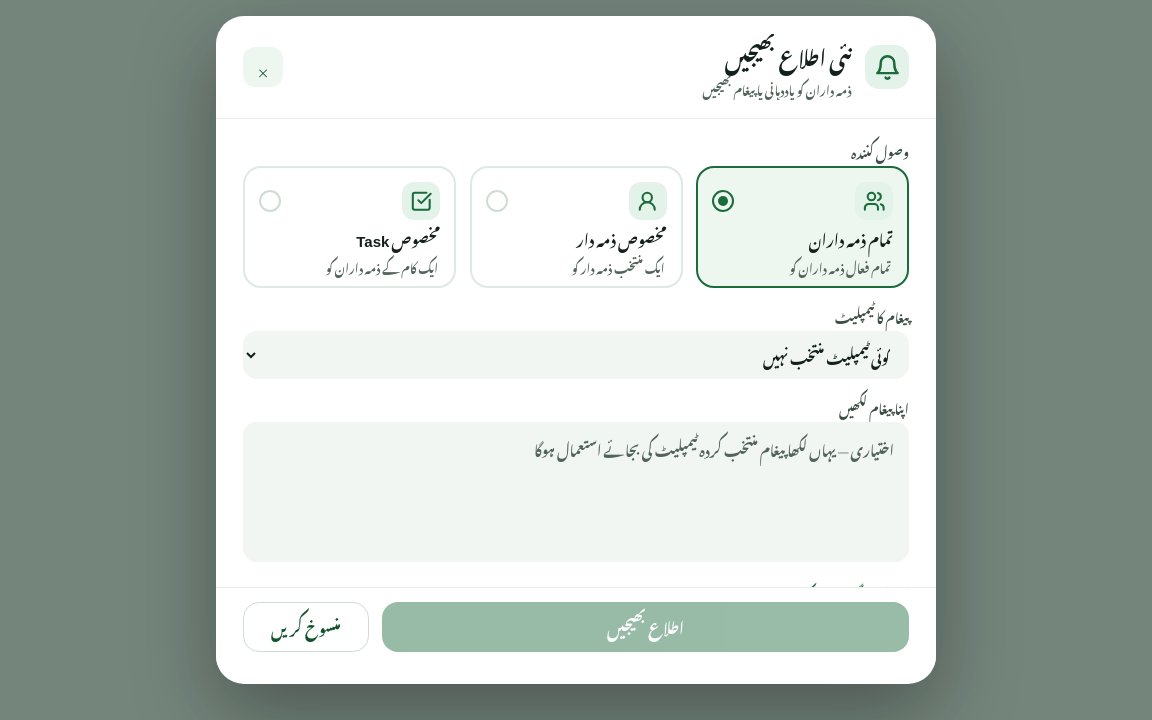
Test: SendNotificationDialog › switching to "مخصوص ذمہ دار" shows the user selector and requires a selection before submit is enabled
Click the radio button labelled "مخصوص ذمہ دار".
click(576, 227)  # box [470,166,682,288]
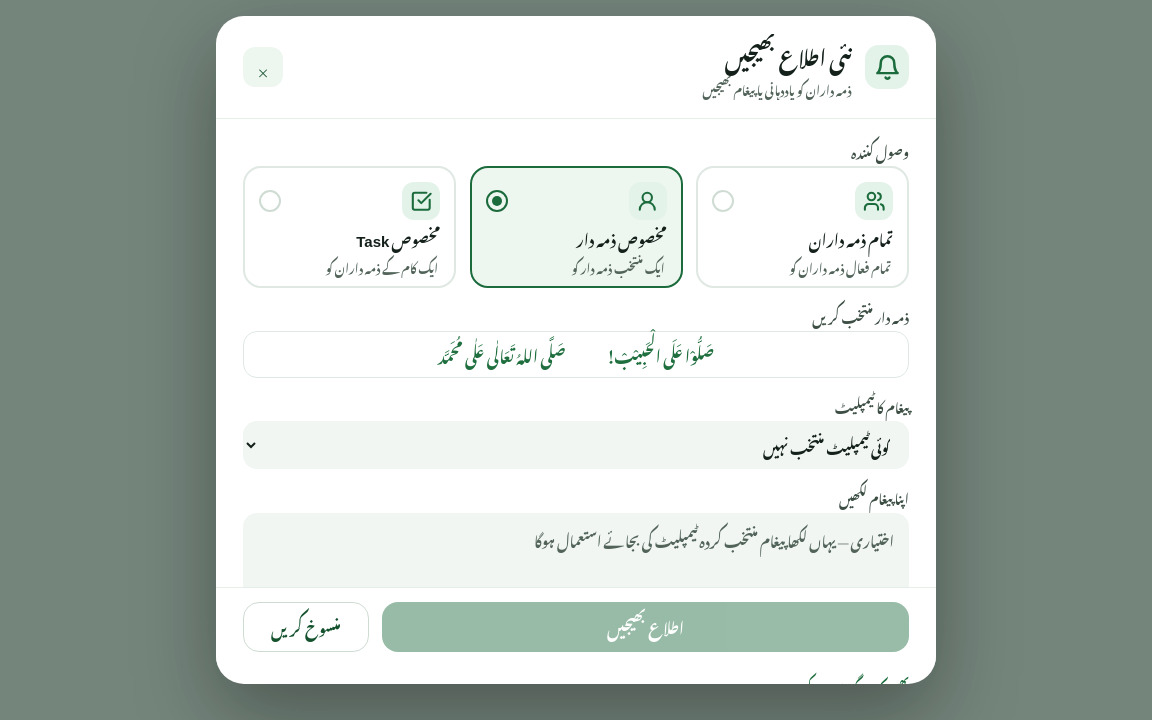
Select "عمومی یاد دہانی" in the dropdown labelled "پیغام کا ٹیمپلیٹ" at (576, 445), box [243,421,909,469]
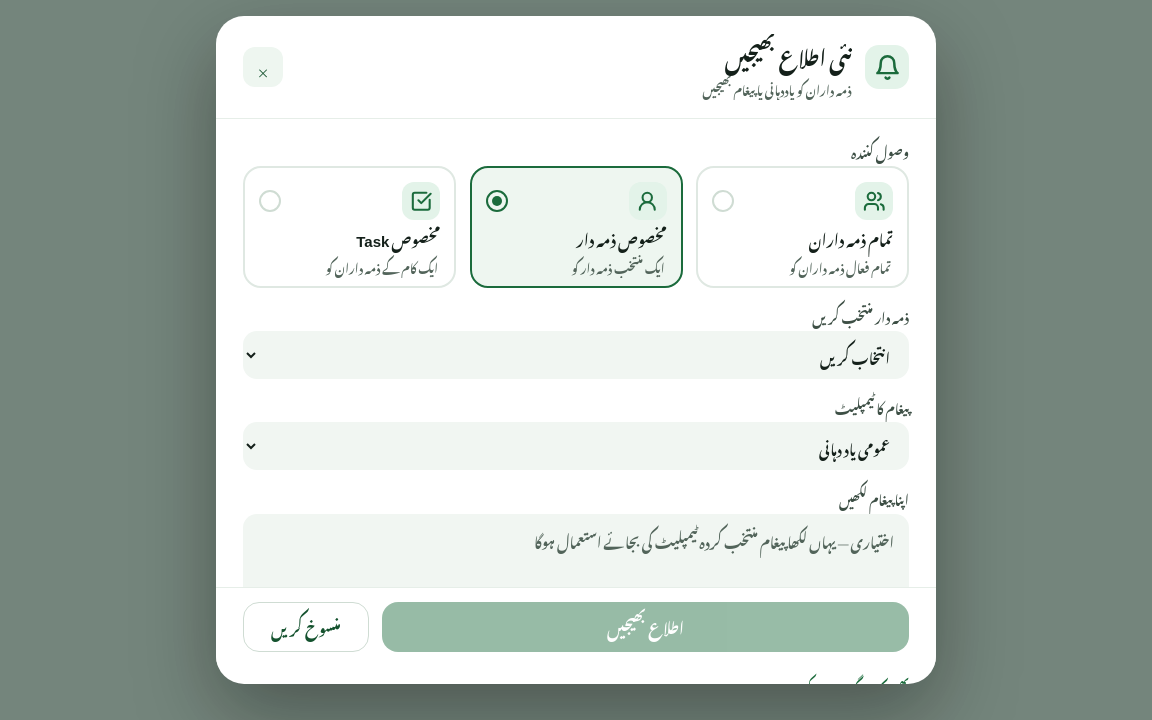
Check: the button "اطلاع بھیجیں" is disabled, box [382,602,909,652]
Select "Ali" in the dropdown labelled "ذمہ دار منتخب کریں" at (576, 355), box [243,331,909,379]
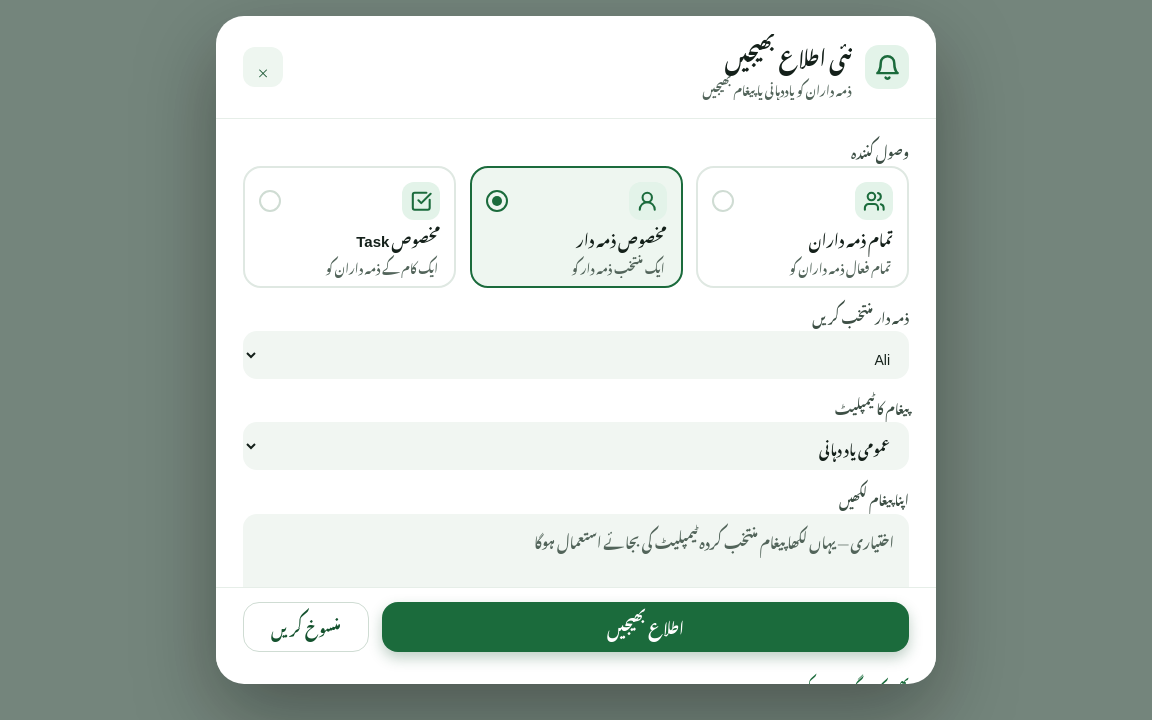
Check: the button "اطلاع بھیجیں" is enabled, box [382,602,909,652]
